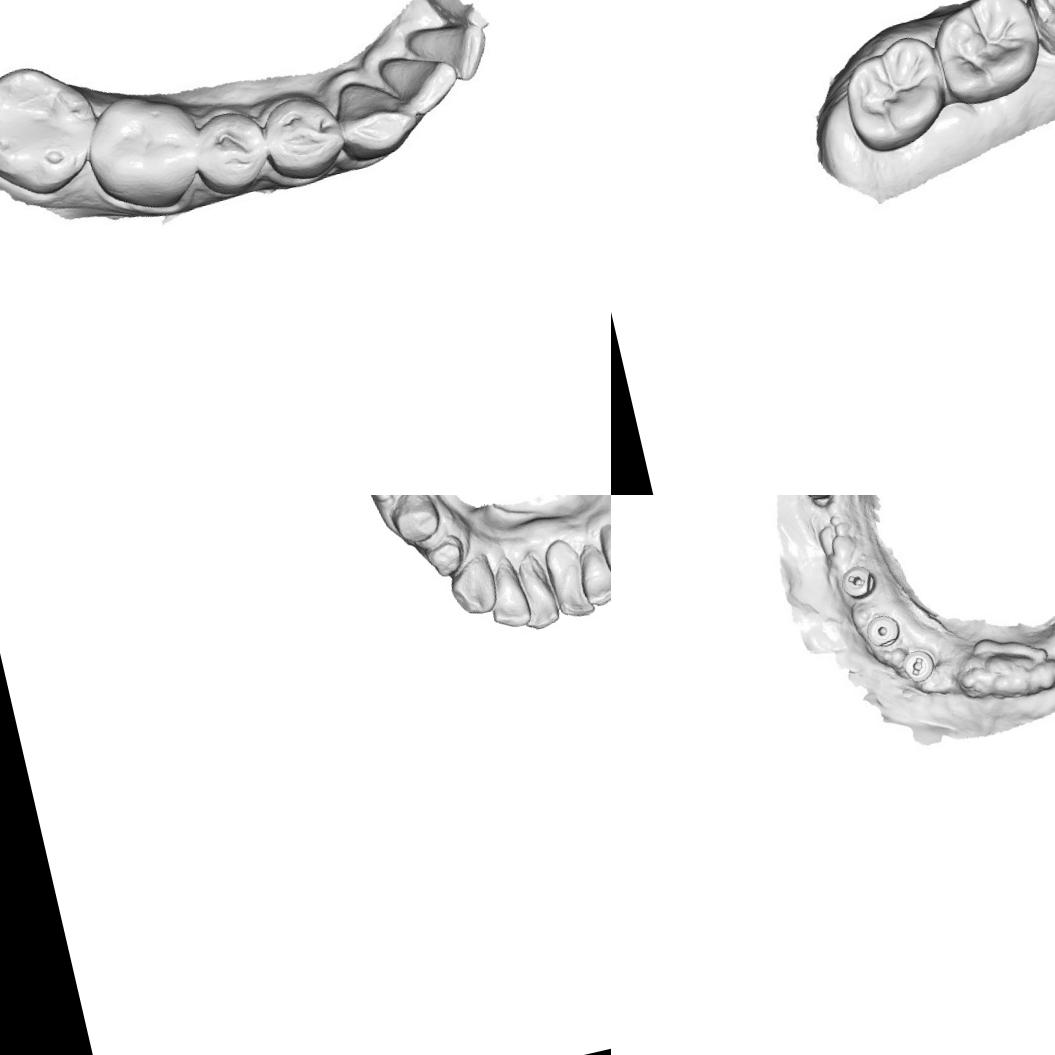canine: (331, 72, 426, 170), (444, 549, 503, 619), (596, 515, 611, 583)
implant: (860, 610, 906, 652)
implant_minus: (895, 647, 943, 689), (836, 560, 882, 603)
incisor: (378, 42, 463, 126), (404, 14, 494, 89), (541, 534, 596, 624), (481, 552, 534, 632), (511, 553, 561, 633), (573, 537, 611, 610)
molar: (76, 81, 209, 220), (0, 53, 110, 207), (832, 32, 956, 159), (929, 0, 1045, 113)
premolar: (253, 84, 348, 180), (184, 102, 276, 196), (382, 495, 445, 549), (1021, 0, 1055, 55)
